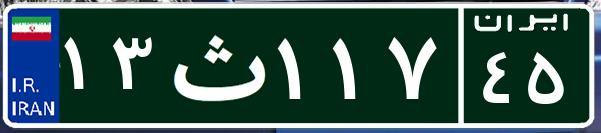1: (273, 28, 330, 110), (330, 28, 385, 110), (57, 26, 110, 107)
3: (110, 28, 158, 105)
4: (475, 38, 525, 113)
5: (525, 38, 570, 115)
7: (385, 28, 445, 110)
ث: (158, 15, 273, 115)
